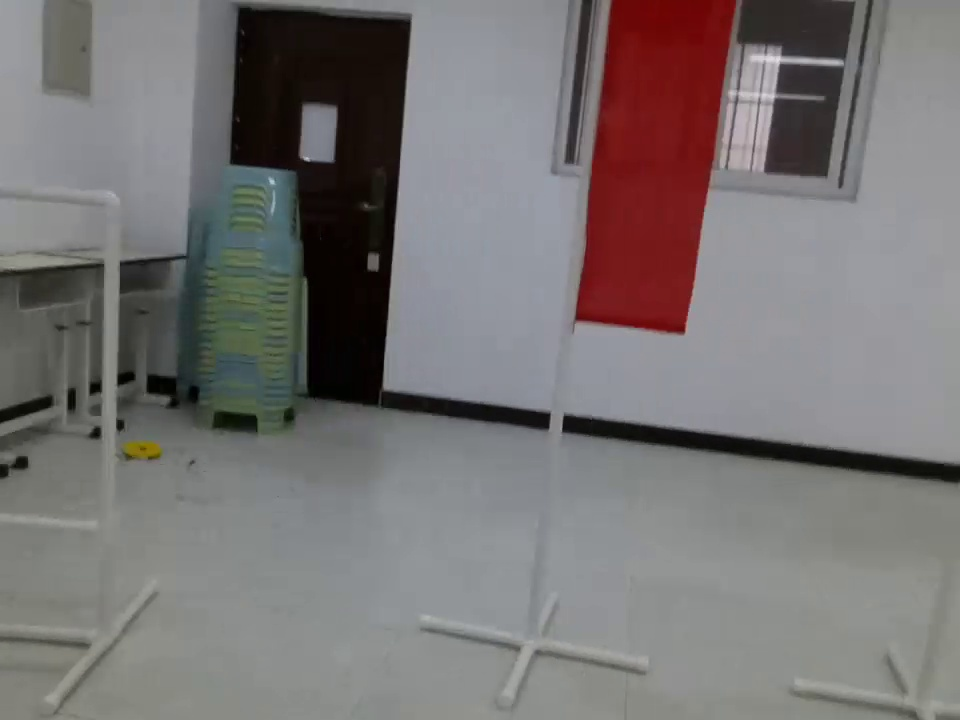qi: (562, 9, 758, 338)
